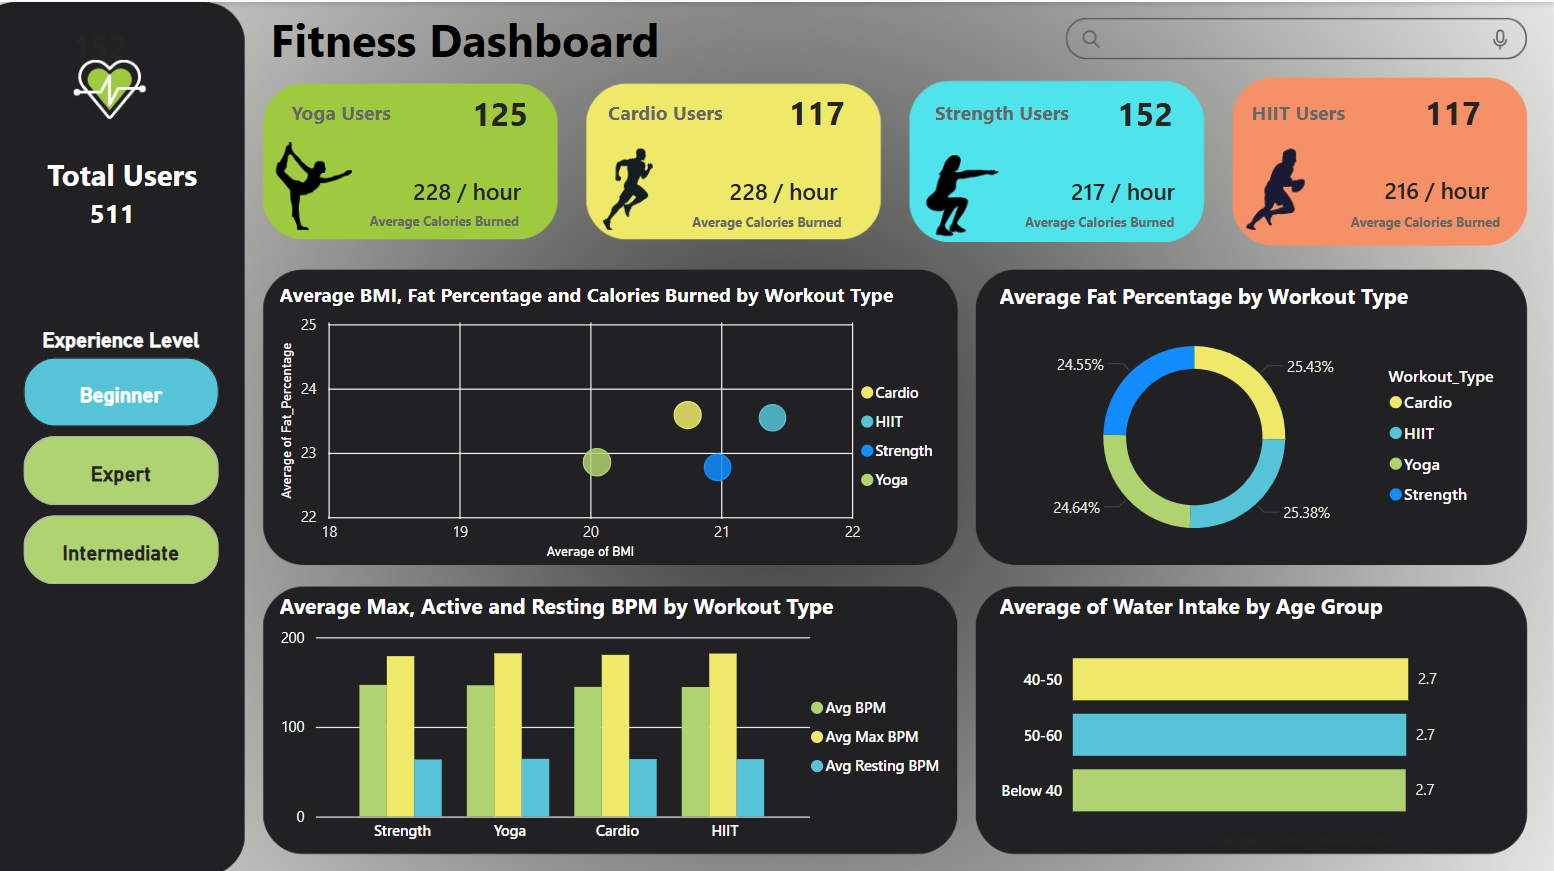

Layout of this report page (visuals, bound fields, positions):
{"tool":"powerbi","page":{"name":"Dashboard","canvas":[1280,720],"ordinal":0},"visuals":[{"type":"textbox","box":[219.2,0,589.6,81.3],"z":0},{"type":"card","fields":{"Values":["All_Measures.Yoga Count"]},"box":[330.1,65.1,165,54.5],"z":1000},{"type":"card","fields":{"Values":["All_Measures.Cardio Count"]},"box":[590.5,69.7,165,45.4],"z":2000},{"type":"card","fields":{"Values":["All_Measures.Strength Count"]},"box":[0,0,165,74.2],"z":3000},{"type":"card","fields":{"Values":["All_Measures.HIIT Count"]},"box":[1114.5,54.5,165,74.2],"z":4000},{"type":"card","fields":{"Values":["All_Measures.Avg_Calories_Yoga(PerHour)"]},"box":[330.1,139.3,110.5,36.3],"z":5000},{"type":"card","fields":{"Values":["All_Measures.Avg_Calories_Strength(PerHour)"]},"box":[861.6,139.3,128.7,36.3],"z":6000},{"type":"card","fields":{"Values":["All_Measures.Avg_Calories_HIIT(PerHour)"]},"box":[1119,137.8,128.7,36.3],"z":7000},{"type":"textbox","box":[0,119.6,202.9,56],"z":8000},{"type":"card","fields":{"Values":["All_Measures.Total Users"]},"box":[21.2,148.4,143.8,53],"z":9000},{"type":"textbox","box":[300.1,164.9,150,36.5],"z":10000},{"type":"card","fields":{"Values":["All_Measures.Avg_Calories_Cardio(PerHour)"]},"box":[590.5,139.3,110.5,36.3],"z":11000},{"type":"textbox","box":[566.3,165,151.4,36.3],"z":12000},{"type":"textbox","box":[840.4,165,149.9,36.3],"z":13000},{"type":"textbox","box":[1108.4,165,149.9,36.3],"z":14000},{"type":"card","fields":{"Values":["All_Measures.Strength Count"]},"box":[861.6,65.1,165,54.5],"z":15000},{"type":"textbox","box":[236.2,74.2,149.9,42.4],"z":16000},{"type":"textbox","box":[496.7,74.2,149.9,42.4],"z":17000},{"type":"textbox","box":[766.2,74.2,149.9,42.4],"z":18000},{"type":"textbox","box":[1026.6,74.2,149.9,39.4],"z":19000},{"type":"advancedSlicerVisual","title":"Experience Level","fields":{"Values":["Gym_Members_Data.Experience_Level"]},"box":[15.1,268,171.1,218],"z":20000},{"type":"donutChart","title":"Average Fat Percentage by  Workout Type","fields":{"Category":["Gym_Members_Data.Workout_Type"],"Y":["Avg(Gym_Members_Data.Fat_Percentage)"]},"box":[819.2,230.2,439.1,233.2],"z":21000},{"type":"clusteredBarChart","title":"Average of Water Intake by Age Group","fields":{"Category":["Gym_Members_Data.Age Group"],"Y":["Avg(Gym_Members_Data.Water_Intake (liters))"]},"box":[819.2,486.1,439.1,215],"z":22000},{"type":"scatterChart","title":"Average BMI, Fat Percentage and Calories Burned by Workout Type","fields":{"Series":["Gym_Members_Data.Workout_Type"],"X":["Avg(Gym_Members_Data.BMI)"],"Size":["Avg(Gym_Members_Data.Calories_Burned)"],"Y":["Avg(Gym_Members_Data.Fat_Percentage)"]},"box":[225.6,230.2,557.2,233.2],"z":23000},{"type":"clusteredColumnChart","title":"Average Max, Active and Resting  BPM by Workout Type","fields":{"Category":["Gym_Members_Data.Workout_Type"],"Y":["Avg(Gym_Members_Data.Avg_BPM)","All_Measures.Avg Max BPM","All_Measures.Avg Resting BPM"]},"box":[225.6,486.1,557.2,215],"z":24000}]}

Visuals, with their boxes in screenshot pixels (x1, y1, x2, y2), scaled from the page's 1280x720 canvas onto the 1554x871 screenshot:
textbox: locate(266, 0, 982, 98)
card - All_Measures.Yoga Count: locate(401, 79, 601, 145)
card - All_Measures.Cardio Count: locate(717, 84, 917, 139)
card - All_Measures.Strength Count: locate(0, 0, 200, 90)
card - All_Measures.HIIT Count: locate(1353, 66, 1553, 156)
card - All_Measures.Avg_Calories_Yoga(PerHour): locate(401, 169, 535, 212)
card - All_Measures.Avg_Calories_Strength(PerHour): locate(1046, 169, 1202, 212)
card - All_Measures.Avg_Calories_HIIT(PerHour): locate(1359, 167, 1515, 211)
textbox: locate(0, 145, 246, 212)
card - All_Measures.Total Users: locate(26, 180, 200, 244)
textbox: locate(364, 199, 546, 244)
card - All_Measures.Avg_Calories_Cardio(PerHour): locate(717, 169, 851, 212)
textbox: locate(688, 200, 871, 244)
textbox: locate(1020, 200, 1202, 244)
textbox: locate(1346, 200, 1528, 244)
card - All_Measures.Strength Count: locate(1046, 79, 1246, 145)
textbox: locate(287, 90, 469, 141)
textbox: locate(603, 90, 785, 141)
textbox: locate(930, 90, 1112, 141)
textbox: locate(1246, 90, 1428, 137)
"Experience Level" advancedSlicerVisual: locate(18, 324, 226, 588)
"Average Fat Percentage by  Workout Type" donutChart: locate(995, 278, 1528, 561)
"Average of Water Intake by Age Group" clusteredBarChart: locate(995, 588, 1528, 848)
"Average BMI, Fat Percentage and Calories Burned by Workout Type" scatterChart: locate(274, 278, 950, 561)
"Average Max, Active and Resting  BPM by Workout Type" clusteredColumnChart: locate(274, 588, 950, 848)
